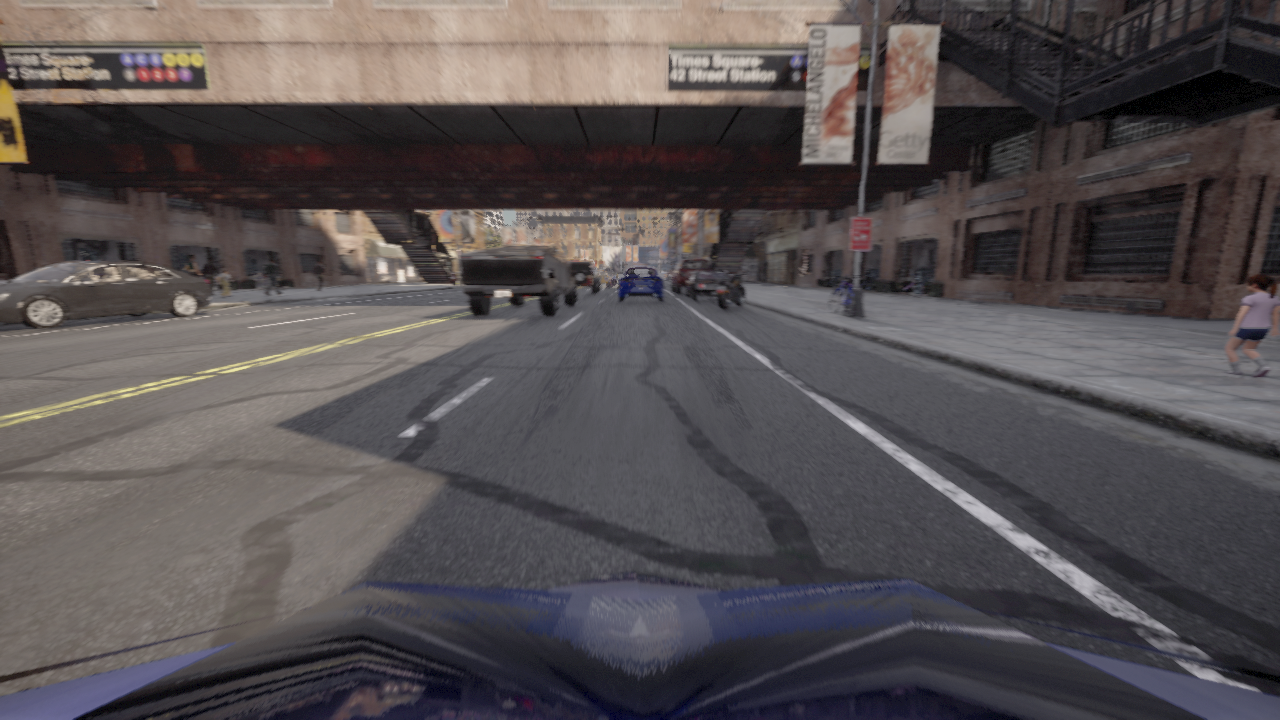cyclist: (0, 569, 1279, 719), (0, 260, 211, 328), (459, 245, 578, 316), (619, 266, 663, 301), (671, 259, 711, 293), (685, 271, 731, 300), (829, 273, 858, 317), (716, 270, 745, 309), (569, 261, 600, 294), (594, 269, 611, 287), (603, 270, 615, 284), (448, 271, 458, 285)
pedestrian: (1221, 275, 1279, 377), (263, 258, 282, 295), (202, 257, 220, 295), (217, 270, 232, 296), (314, 260, 326, 291), (186, 254, 201, 276)
